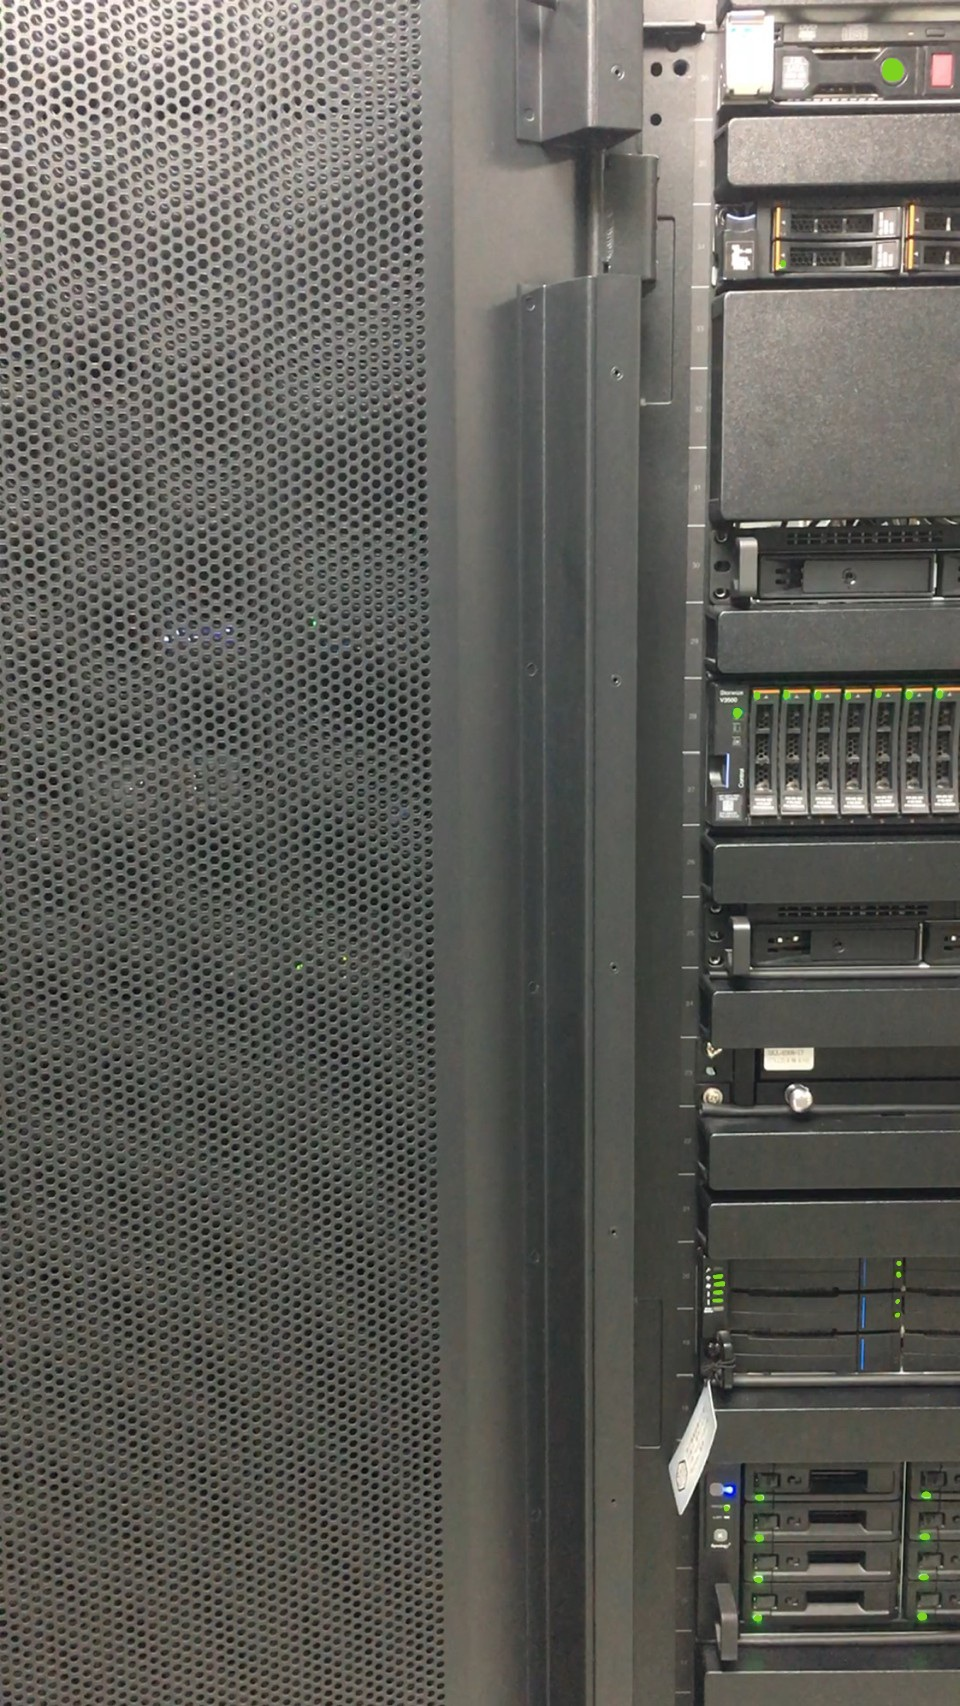HDD_normal: (768, 233, 907, 275)
HDD_shut down: (771, 205, 903, 239), (904, 237, 960, 274), (907, 202, 960, 231)
